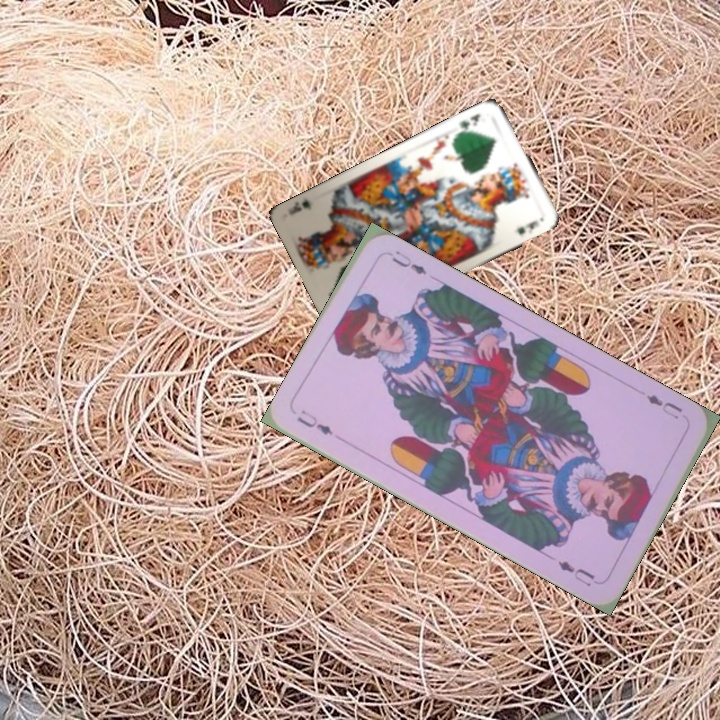EU: (292, 406, 336, 438), (642, 390, 685, 422)
GK: (455, 110, 483, 136)
